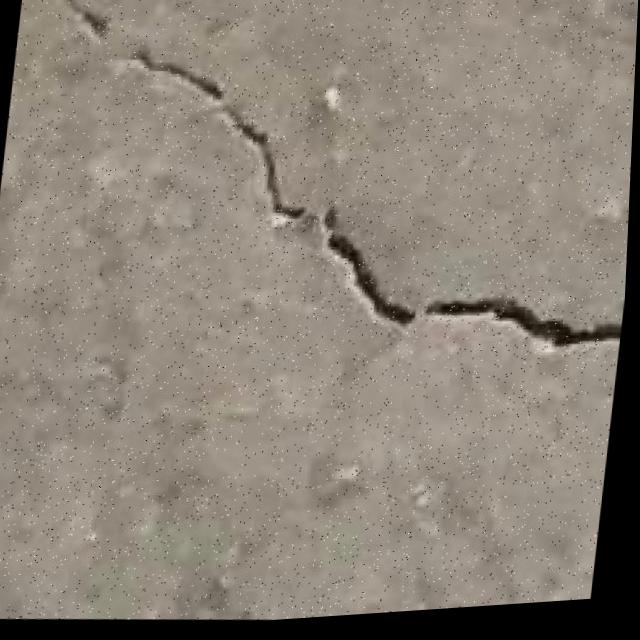Crack: (20, 0, 640, 408)
